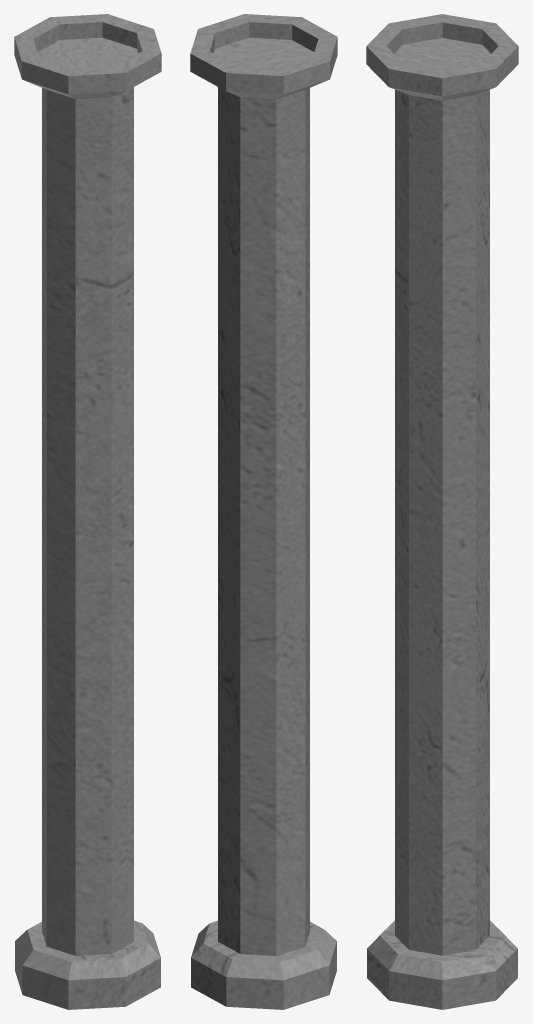
Rendered from Lamp.obj.
3 renders of one model, left to right at view 1: azimuth 30°, elevation 25°; view 2: azimuth 150°, elevation 25°; view 3: azimuth 270°, elevation 25°, orthographic.
Visible parts, largest first — view 1: Lampa; view 2: Lampa; view 3: Lampa.
Part boxes in pixels (<box>): Lampa: <box>14,14,161,1009</box>; Lampa: <box>190,14,337,1009</box>; Lampa: <box>366,14,518,1009</box>.
Bounding box in the file's own units: 0.3098 × 2.09 × 0.3098.
Materials: 1 (1 with a texture image).
